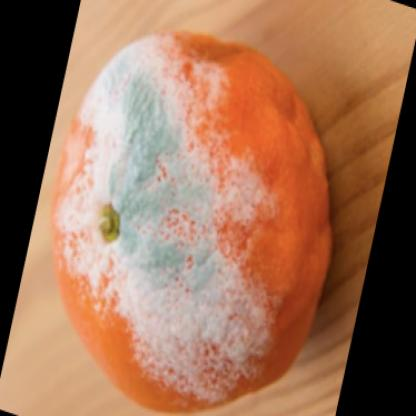rotten: (52, 33, 336, 416)
